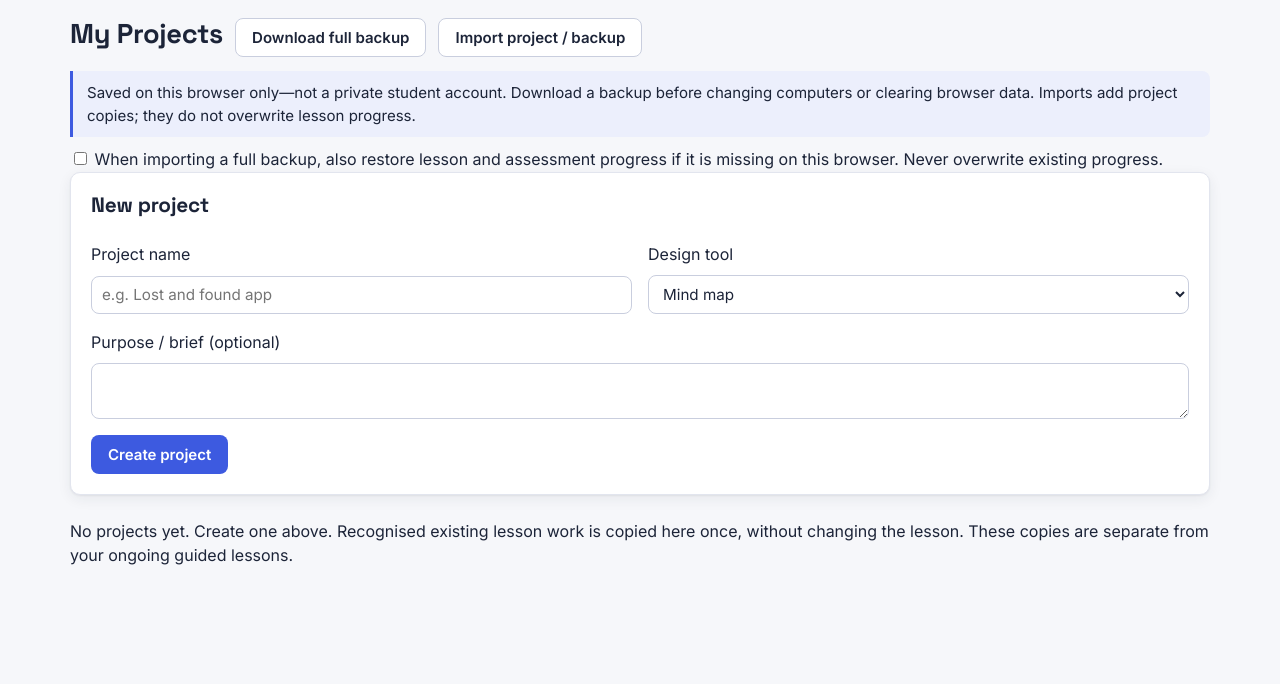
Test: Learning enhancements › creates a named mood-board project through My Projects
Type "My sports theme" into the field labelled "Project name" at [362, 295], box [91,276,632,314]
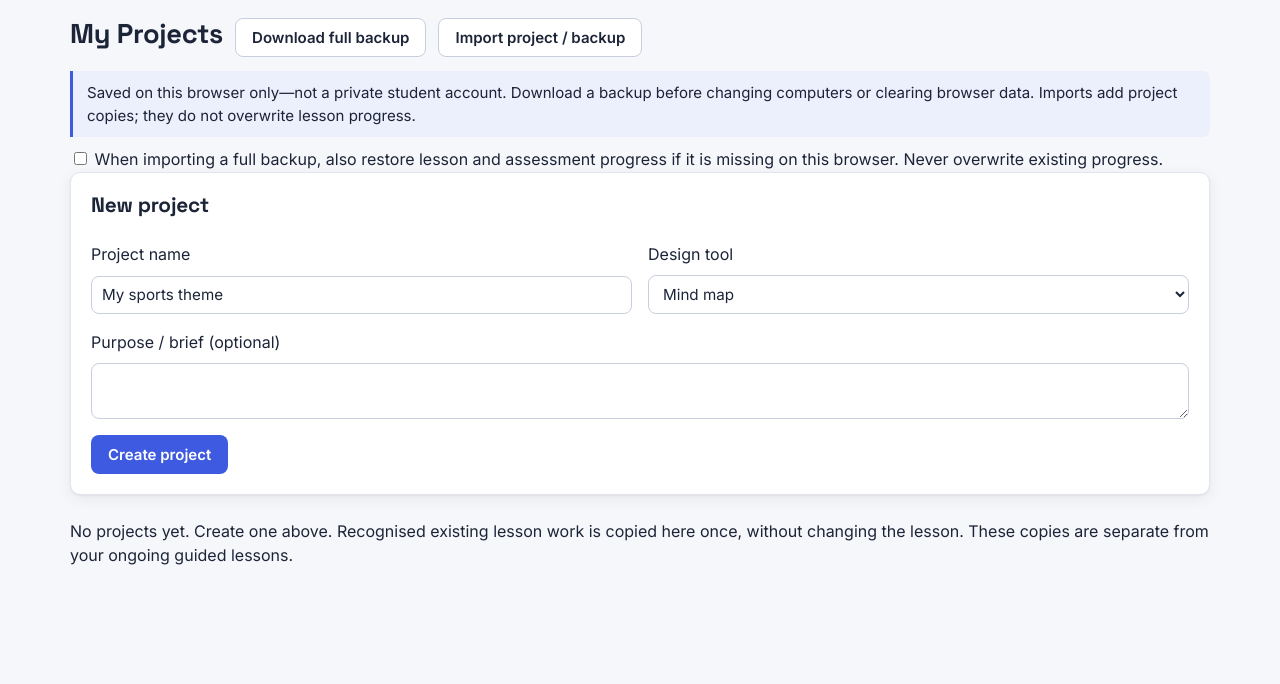
Select "Mood board" in the dropdown labelled "Design tool" at [918, 294], box [648,275,1189,314]
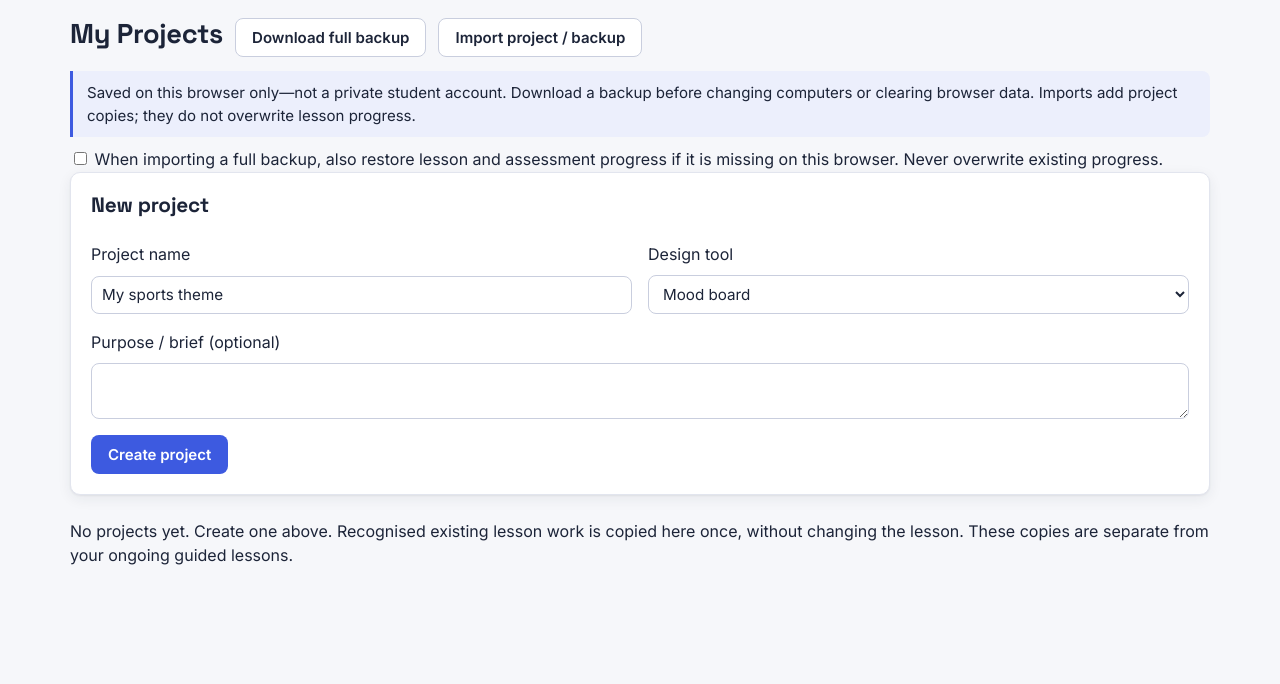
Click the button "Create project" at [160, 454], box [91,435,228,474]
(page scrolled)
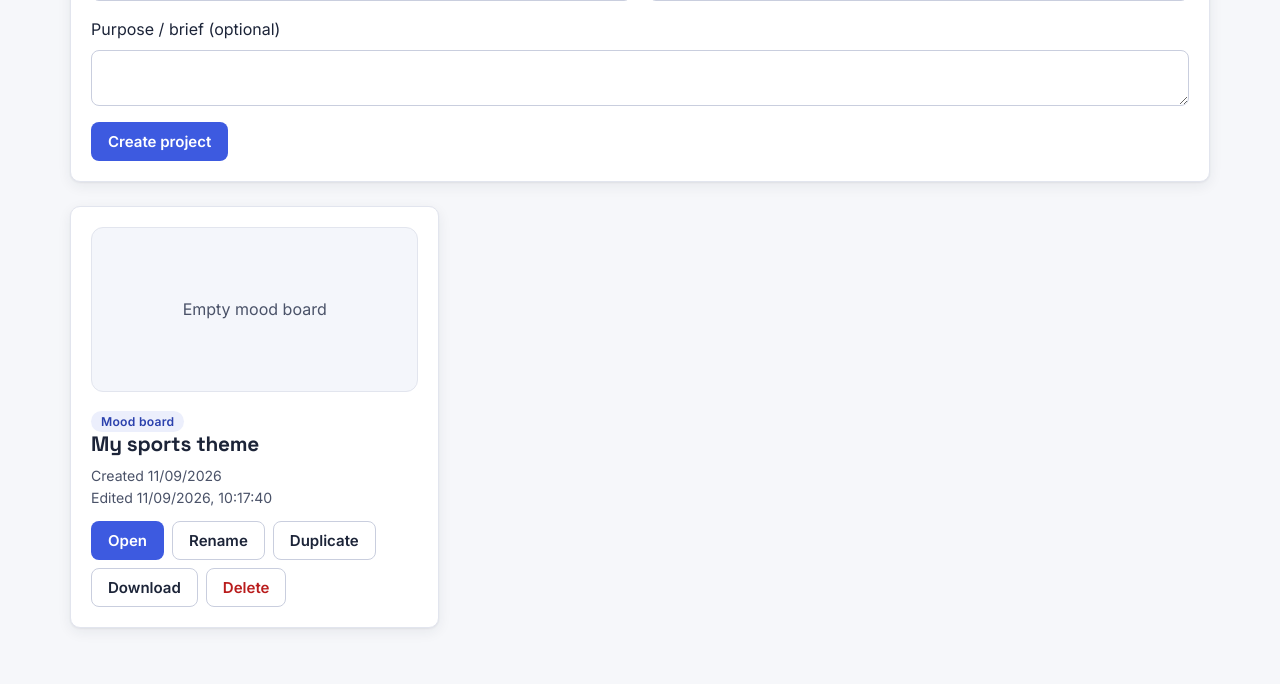
Check: the heading "My sports theme" is shown, box [91,431,259,457]
